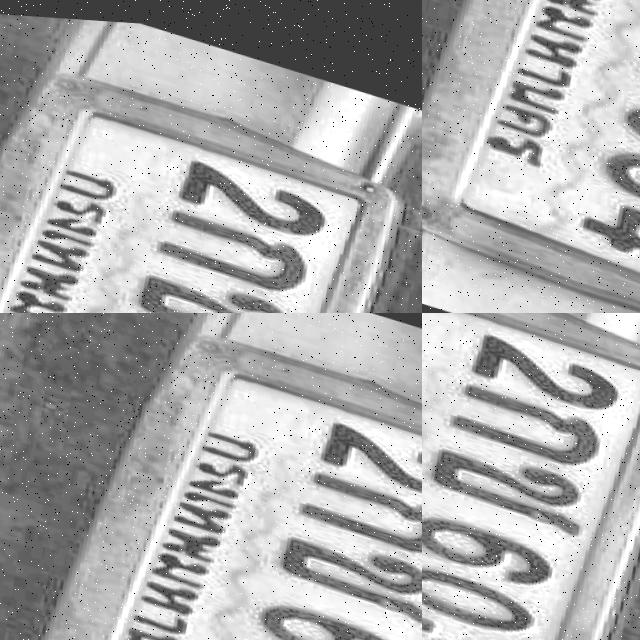license-plate: (422, 313, 640, 640), (512, 0, 640, 118)
